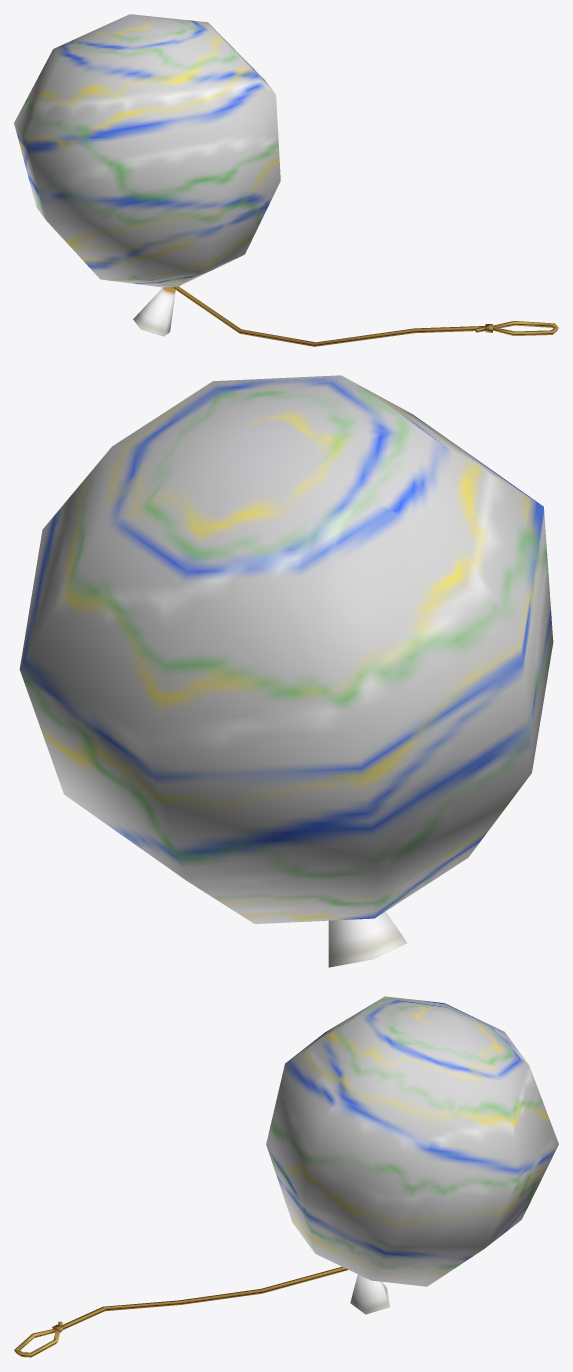
Rendered from jsf_WaterBalloon_14_d.fbx.
3 views of the same model, one above another, from view 1: azimuth 30°, elevation 25°; view 2: azimuth 150°, elevation 25°; view 3: azimuth 270°, elevation 25° (orthographic). The views are drawn at different scales.
Parts seen in each view (by area): view 1: jsf_WaterBalloon_14_d; view 2: jsf_WaterBalloon_14_d; view 3: jsf_WaterBalloon_14_d.
Boxes of the visible parts, x1,y1,x2,y2 form: jsf_WaterBalloon_14_d: (14, 14, 558, 346); jsf_WaterBalloon_14_d: (19, 375, 553, 967); jsf_WaterBalloon_14_d: (14, 996, 558, 1357).
Size of the model in its own units: 15.63 by 12.55 by 20.67.
